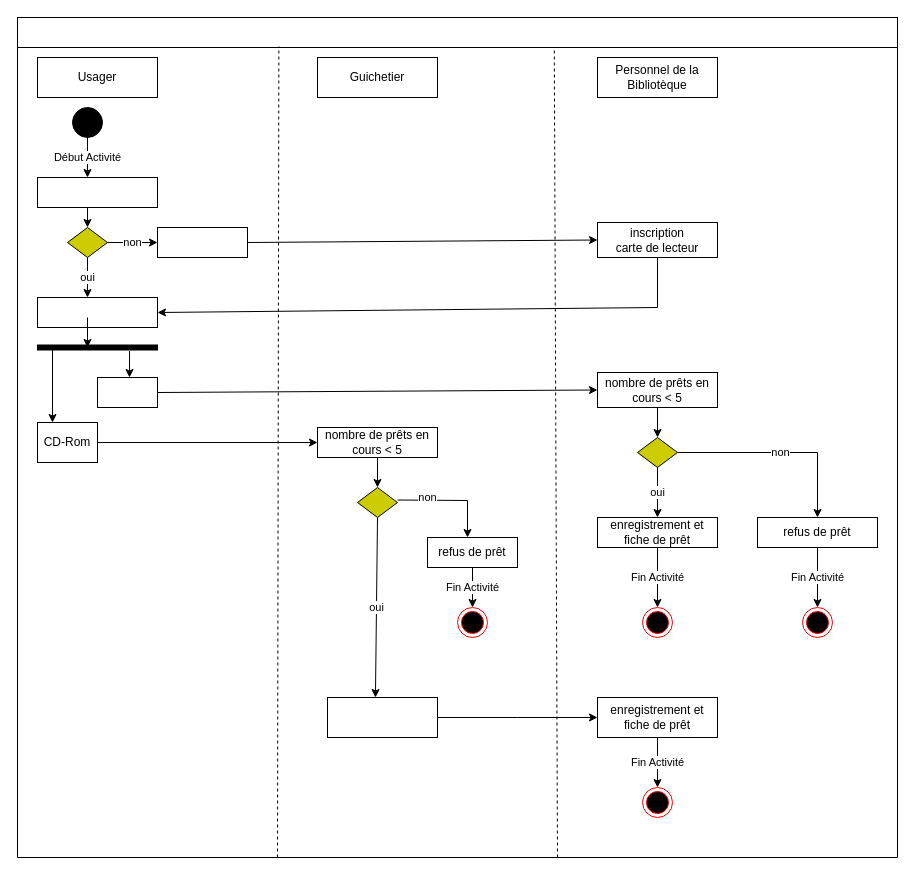
Some shapes in this 917 by 876 pixel diagram are drawn without their labels. The centre of each missing label's shape, as x and y in pixels:
choisit le document à emprunter: point (97, 312)
demande inscription: point (202, 242)
EMPRUNTER: point (457, 32)
livre et microfilm: point (127, 392)
paiement caution: point (382, 717)
Possède Carte de Lecteur: point (97, 192)
